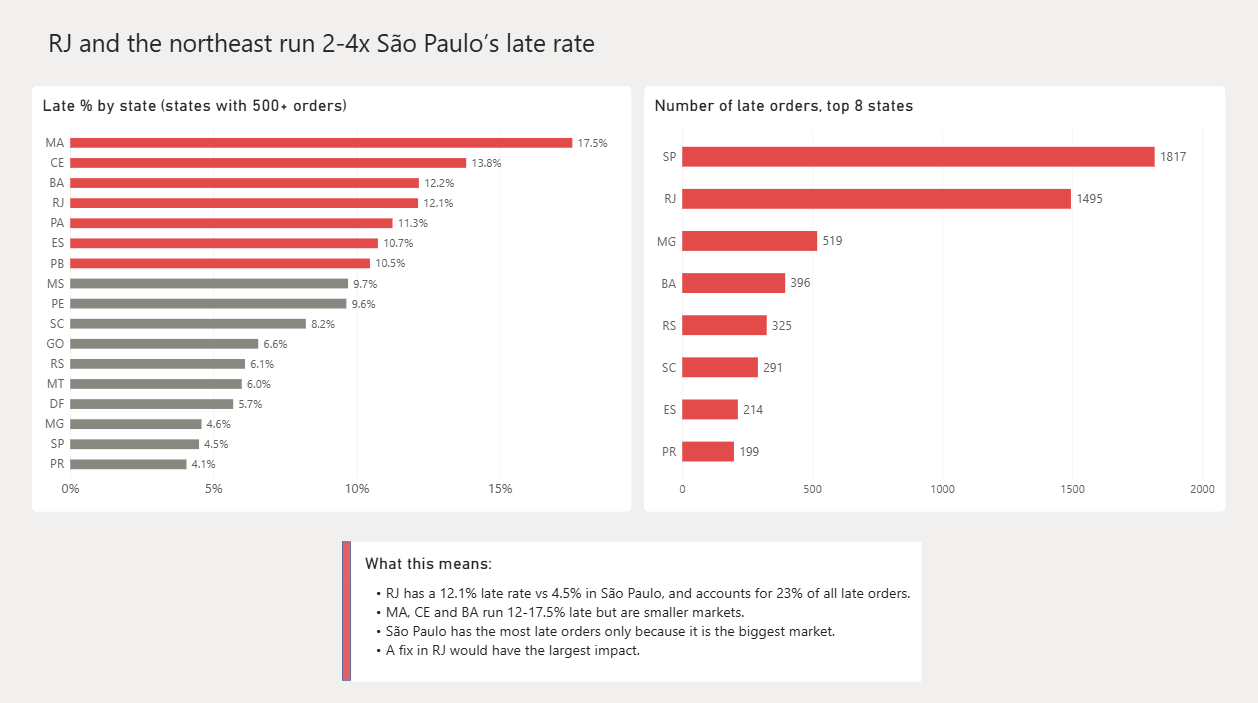

The dashboard page shown, as its layout file describes it:
{"tool":"powerbi","page":{"name":"Geography","canvas":[1920,1080],"ordinal":3},"visuals":[{"type":"textbox","box":[76.9,43.6,1151.3,71.8],"z":0},{"type":"clusteredBarChart","title":"Late % by state (states with 500+ orders)","fields":{"Category":["bi_orders.customer_state"],"Y":["bi_orders.Late %"]},"box":[51.2,134.1,909.8,646.3],"z":1000},{"type":"clusteredBarChart","title":"Number of late orders, top 8 states","fields":{"Category":["bi_orders.customer_state"],"Y":["bi_orders.Late Orders"]},"box":[980.5,134.1,882.9,646.3],"z":2000},{"type":"textbox","title":"What this means:","box":[536.6,825,865.6,213.3],"z":3000},{"type":"shape","box":[523,825.9,13.5,210.8],"z":4000}]}

Visuals, with their boxes in screenshot pixels (x1, y1, x2, y2), scaled from the page's 1920x1080 canvas onto the 1258x703 screenshot:
textbox: locate(50, 28, 805, 75)
"Late % by state (states with 500+ orders)" clusteredBarChart: locate(34, 87, 630, 508)
"Number of late orders, top 8 states" clusteredBarChart: locate(642, 87, 1221, 508)
"What this means:" textbox: locate(352, 537, 919, 676)
shape: locate(343, 538, 352, 675)
